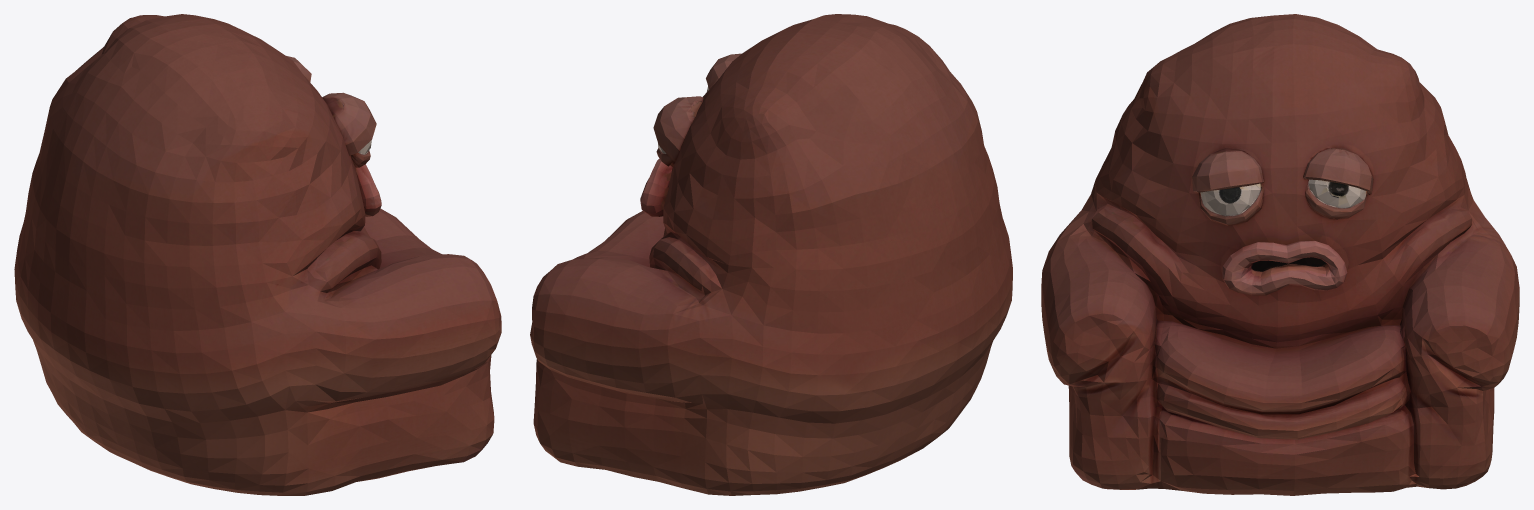
The model's file is murray.glb.
3 renders of one model, left to right at view 1: azimuth 30°, elevation 25°; view 2: azimuth 150°, elevation 25°; view 3: azimuth 270°, elevation 25°, orthographic. The views are drawn at different scales.
Parts seen in each view (by area): view 1: tripo_node_93d9bee0-d83a-4af9-bc91-e0973f1039f0; view 2: tripo_node_93d9bee0-d83a-4af9-bc91-e0973f1039f0; view 3: tripo_node_93d9bee0-d83a-4af9-bc91-e0973f1039f0.
Boxes of the visible parts, x1,y1,x2,y2 form: tripo_node_93d9bee0-d83a-4af9-bc91-e0973f1039f0: [14, 14, 501, 495]; tripo_node_93d9bee0-d83a-4af9-bc91-e0973f1039f0: [530, 14, 1012, 495]; tripo_node_93d9bee0-d83a-4af9-bc91-e0973f1039f0: [1041, 14, 1519, 495].
Size of the model in its own units: 0.877 by 0.8613 by 0.998.
Materials: 1 (1 with a texture image).
